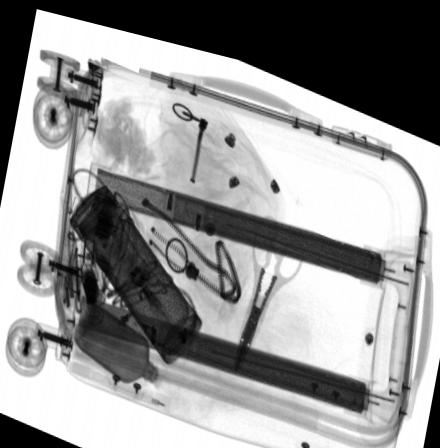Scissors: (234, 198, 305, 360)
